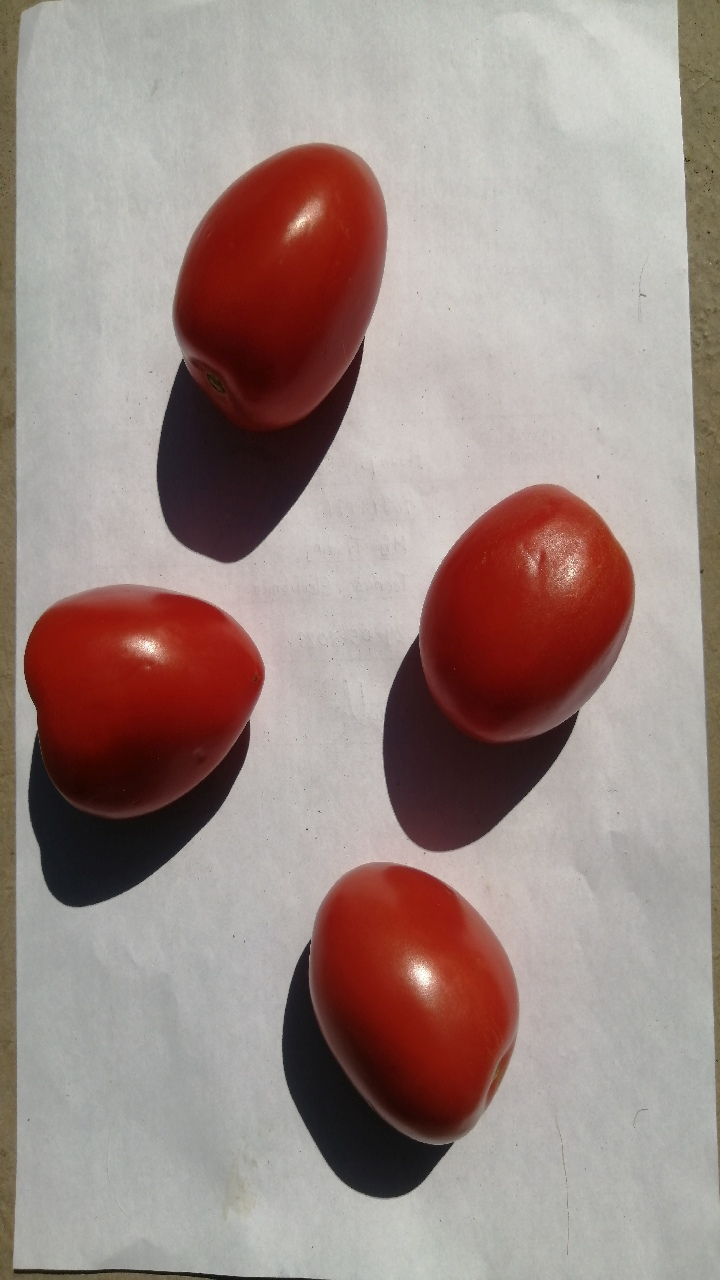tomateRojo: (278, 832, 538, 1162), (164, 129, 411, 455), (9, 554, 280, 851), (392, 459, 651, 765)
